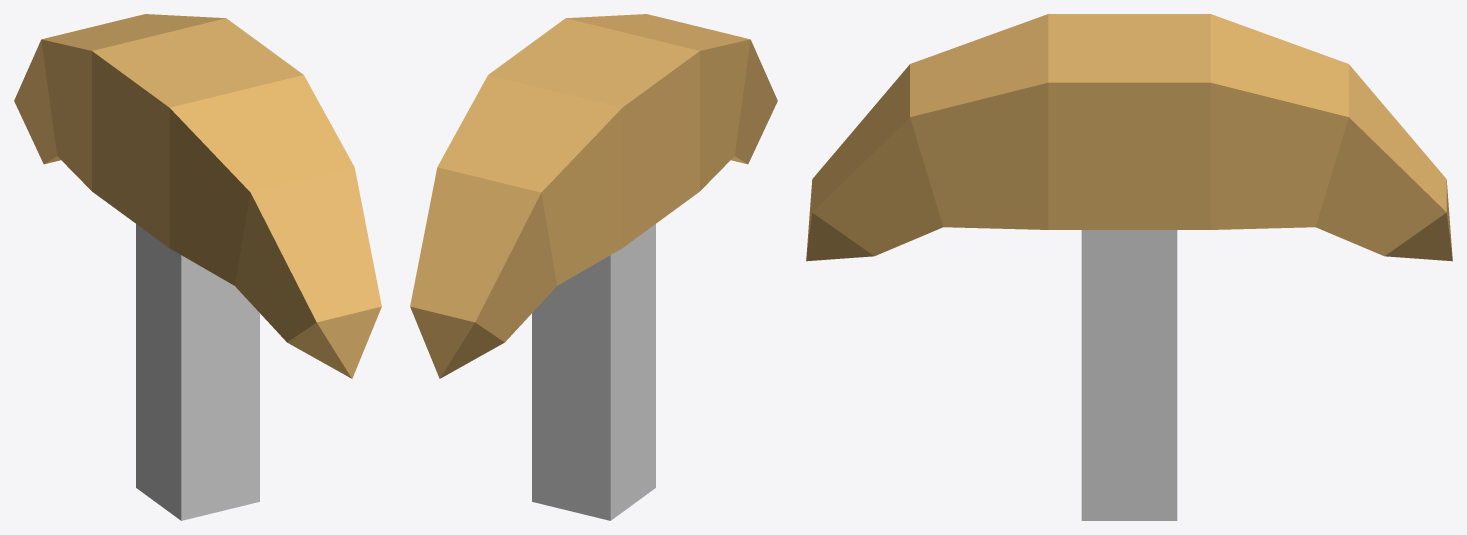
Rendered from CommonPick_FBX.fbx.
The picture shows the model from 3 angles, left to right: view 1: azimuth 30°, elevation 25°; view 2: azimuth 150°, elevation 25°; view 3: azimuth 270°, elevation 25°; orthographic projection. The views are drawn at different scales.
Visible parts, largest first — view 1: Cube.001, Cube; view 2: Cube.001, Cube; view 3: Cube.001, Cube.
Part boxes in pixels (x1,y1,x2,y2): Cube.001: (14, 14, 381, 378); Cube: (136, 224, 259, 520); Cube.001: (410, 14, 777, 378); Cube: (532, 224, 655, 520); Cube.001: (806, 14, 1452, 261); Cube: (1081, 230, 1177, 520).
Size of the model in its own units: 84.84 by 261 by 338.
